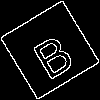B: (25, 25, 78, 82)
